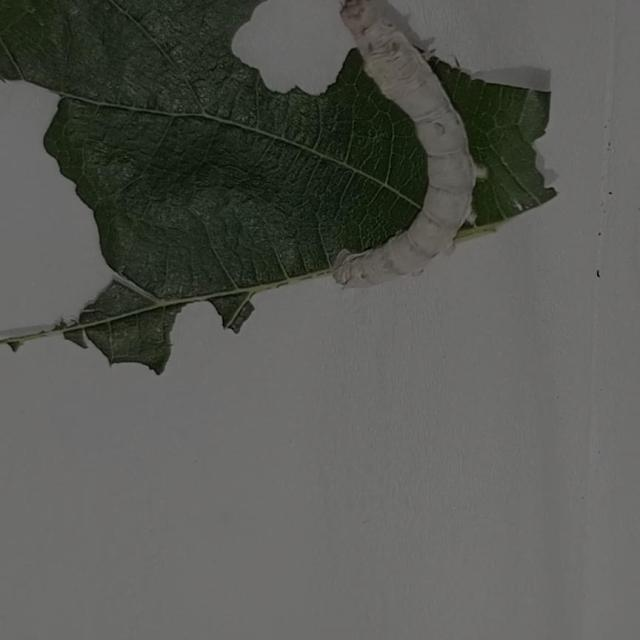Healthy: (294, 0, 510, 300)
